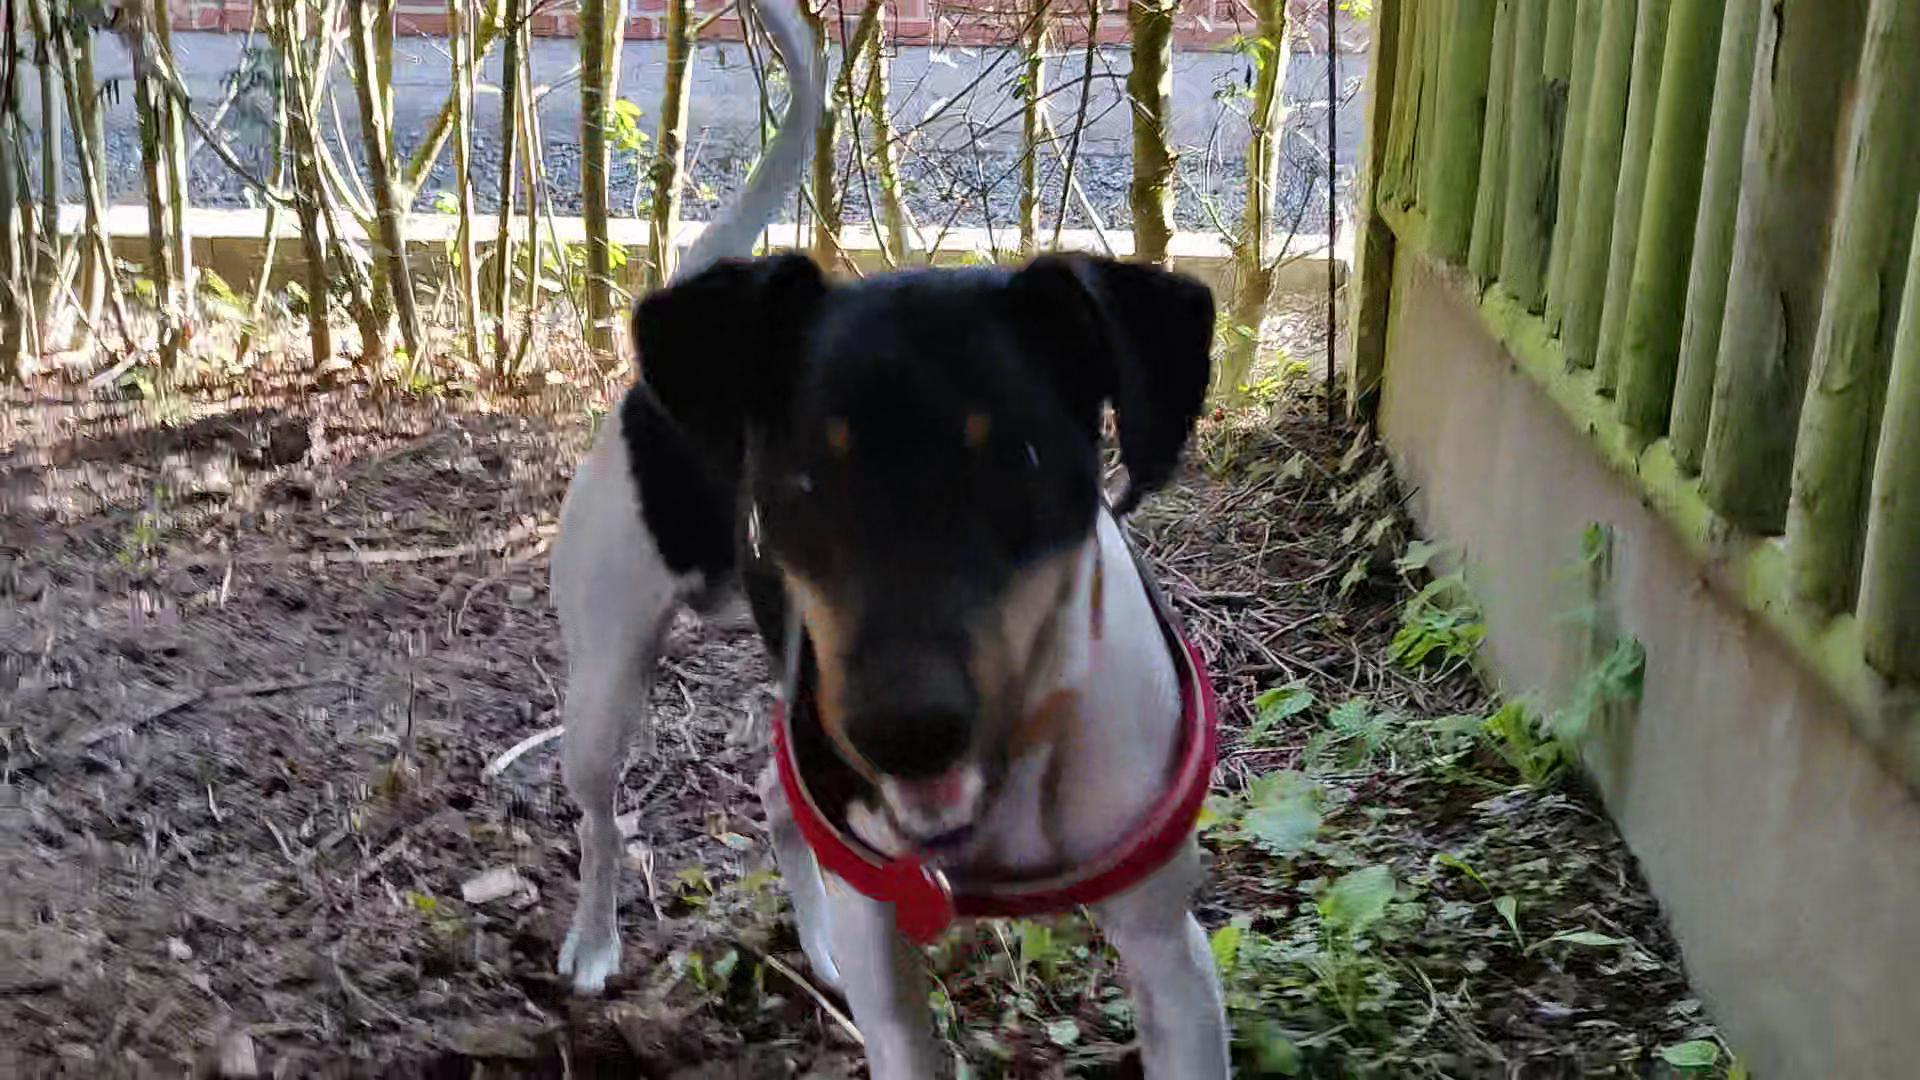Dog: (534, 0, 1278, 1079)
